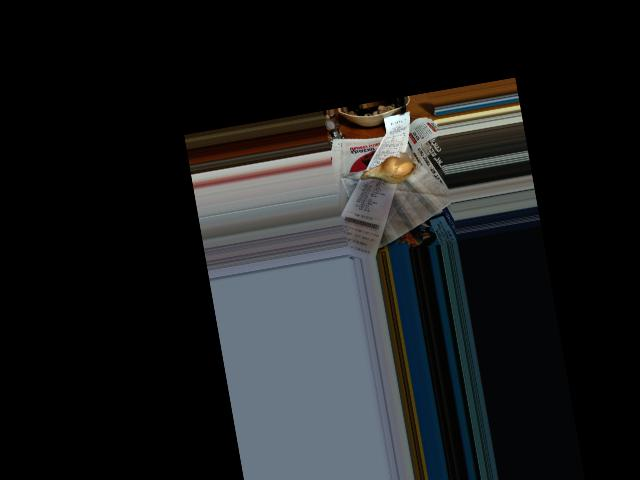onion: (364, 150, 419, 189)
